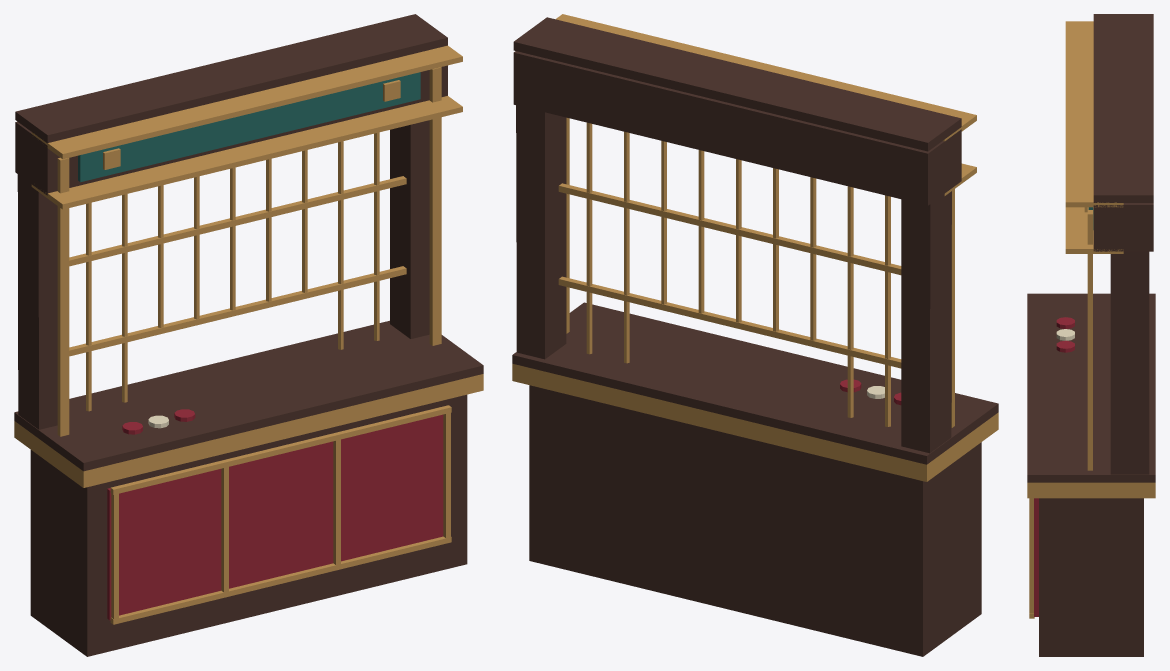
The model's file is Casino_CashierBooth.fbx.
3 views of the same model, side by side, from view 1: azimuth 30°, elevation 25°; view 2: azimuth 150°, elevation 25°; view 3: azimuth 270°, elevation 25° (orthographic). The views are drawn at different scales.
Parts seen in each view (by area): view 1: Casino_CashierBooth; view 2: Casino_CashierBooth; view 3: Casino_CashierBooth.
Part boxes in pixels (<box>): Casino_CashierBooth: <box>14,14,483,656</box>; Casino_CashierBooth: <box>512,14,998,656</box>; Casino_CashierBooth: <box>1027,14,1155,656</box>.
Size of the model in its own units: 200 by 240 by 60.
